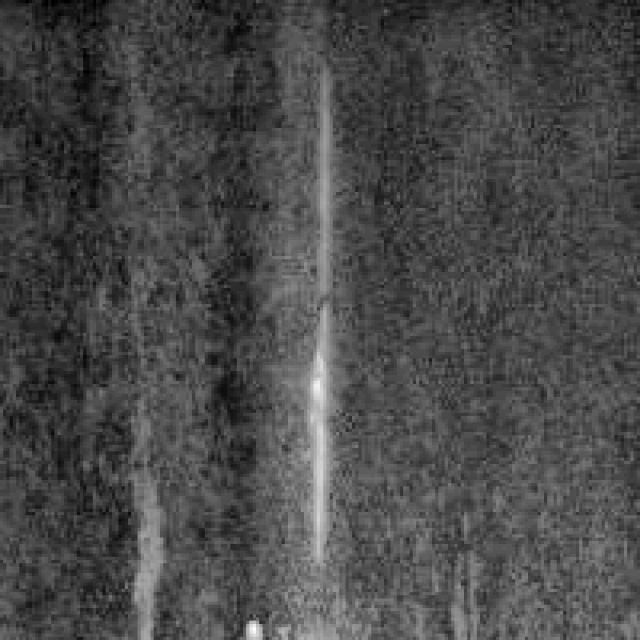Inclusion: (291, 73, 336, 560)
